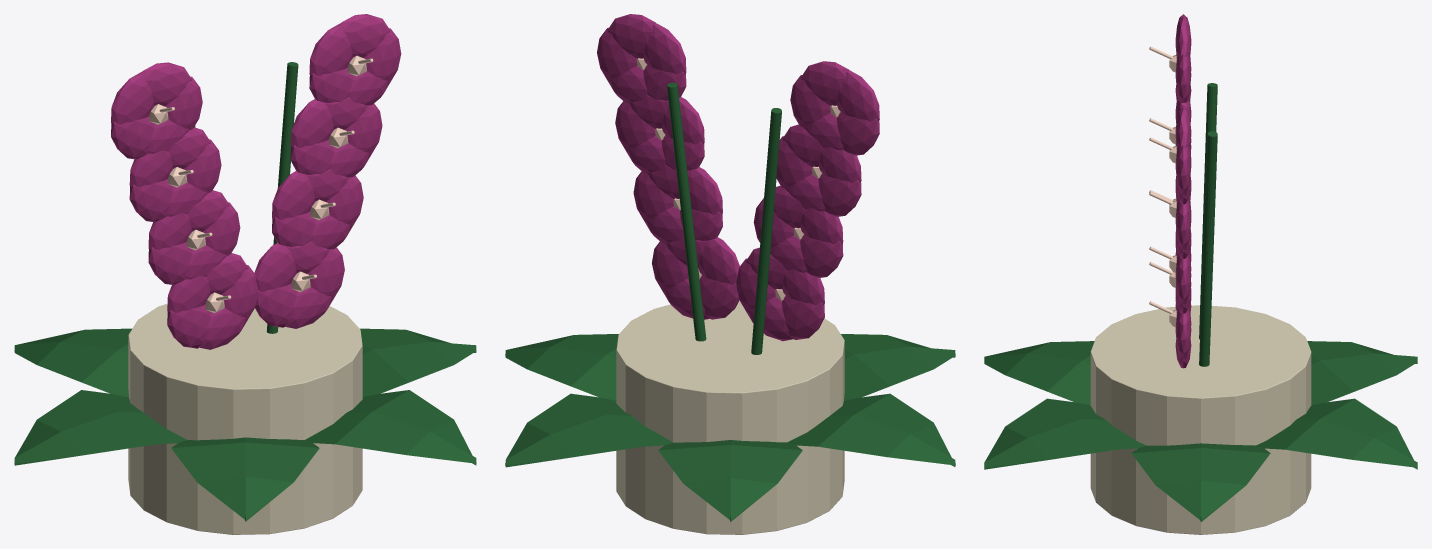
Rendered from source-edit.glb.
3 renders of one model, left to right at view 1: azimuth 30°, elevation 25°; view 2: azimuth 150°, elevation 25°; view 3: azimuth 270°, elevation 25°, orthographic. The views are drawn at different scales.
Visible parts, largest first — view 1: ORCHID_Pot, ORCHID_Leaf_4, ORCHID_Leaf_3, ORCHID_Leaf_5, ORCHID_Leaf_2, ORCHID_Leaf_0, ORCHID_Bloom_Petal.017, ORCHID_Bloom_Petal.037, ORCHID_Bloom_Petal.032, ORCHID_Bloom_Petal.027, ORCHID_Bloom_Petal.022, ORCHID_Stem.001 (+35 smaller); view 2: ORCHID_Pot, ORCHID_Leaf_2, ORCHID_Leaf_1, ORCHID_Leaf_3, ORCHID_Leaf_0, ORCHID_Leaf_4, ORCHID_Stem.001, ORCHID_Stem, ORCHID_Bloom_Petal.037, ORCHID_Bloom_Petal.017, ORCHID_Bloom_Petal.022, ORCHID_Bloom_Petal.016 (+35 smaller); view 3: ORCHID_Pot, ORCHID_Leaf_0, ORCHID_Leaf_5, ORCHID_Leaf_1, ORCHID_Leaf_4, ORCHID_Leaf_2, ORCHID_Stem.001, ORCHID_Stem, ORCHID_Bloom_Petal.035, ORCHID_Bloom_Petal.015, ORCHID_Bloom_Petal.020, ORCHID_Bloom_Petal.030 (+3 smaller).
Boxes of the visible parts, <box> form: ORCHID_Pot: <box>128,303,362,534</box>; ORCHID_Leaf_4: <box>171,437,319,521</box>; ORCHID_Leaf_3: <box>14,390,186,465</box>; ORCHID_Leaf_5: <box>305,390,476,465</box>; ORCHID_Leaf_2: <box>14,328,131,397</box>; ORCHID_Leaf_0: <box>360,328,476,396</box>; ORCHID_Bloom_Petal.017: <box>111,72,154,124</box>; ORCHID_Bloom_Petal.037: <box>309,23,352,75</box>; ORCHID_Bloom_Petal.032: <box>290,99,334,147</box>; ORCHID_Bloom_Petal.027: <box>272,171,315,219</box>; ORCHID_Bloom_Petal.022: <box>254,243,296,291</box>; ORCHID_Stem.001: <box>266,62,298,333</box>; ORCHID_Pot: <box>616,300,844,534</box>; ORCHID_Leaf_2: <box>658,440,802,521</box>; ORCHID_Leaf_1: <box>505,393,672,467</box>; ORCHID_Leaf_3: <box>788,393,955,466</box>; ORCHID_Leaf_0: <box>505,334,618,400</box>; ORCHID_Leaf_4: <box>841,334,955,400</box>; ORCHID_Stem.001: <box>667,82,706,341</box>; ORCHID_Stem: <box>751,108,781,354</box>; ORCHID_Bloom_Petal.037: <box>643,23,686,74</box>; ORCHID_Bloom_Petal.017: <box>837,70,879,121</box>; ORCHID_Bloom_Petal.022: <box>698,237,739,284</box>; ORCHID_Bloom_Petal.016: <box>801,61,850,105</box>; ORCHID_Pot: <box>1090,305,1311,534</box>; ORCHID_Leaf_0: <box>1131,443,1270,521</box>; ORCHID_Leaf_5: <box>984,398,1145,469</box>; ORCHID_Leaf_1: <box>1256,398,1417,469</box>; ORCHID_Leaf_4: <box>984,341,1094,405</box>; ORCHID_Leaf_2: <box>1307,341,1417,404</box>; ORCHID_Stem.001: <box>1199,131,1217,366</box>; ORCHID_Stem: <box>1199,83,1217,339</box>; ORCHID_Bloom_Petal.035: <box>1175,144,1191,195</box>; ORCHID_Bloom_Petal.015: <box>1175,53,1191,102</box>; ORCHID_Bloom_Petal.020: <box>1175,309,1191,359</box>; ORCHID_Bloom_Petal.030: <box>1175,200,1191,250</box>.
Bounding box in the file's own units: 0.86 × 0.8069 × 0.7458.
